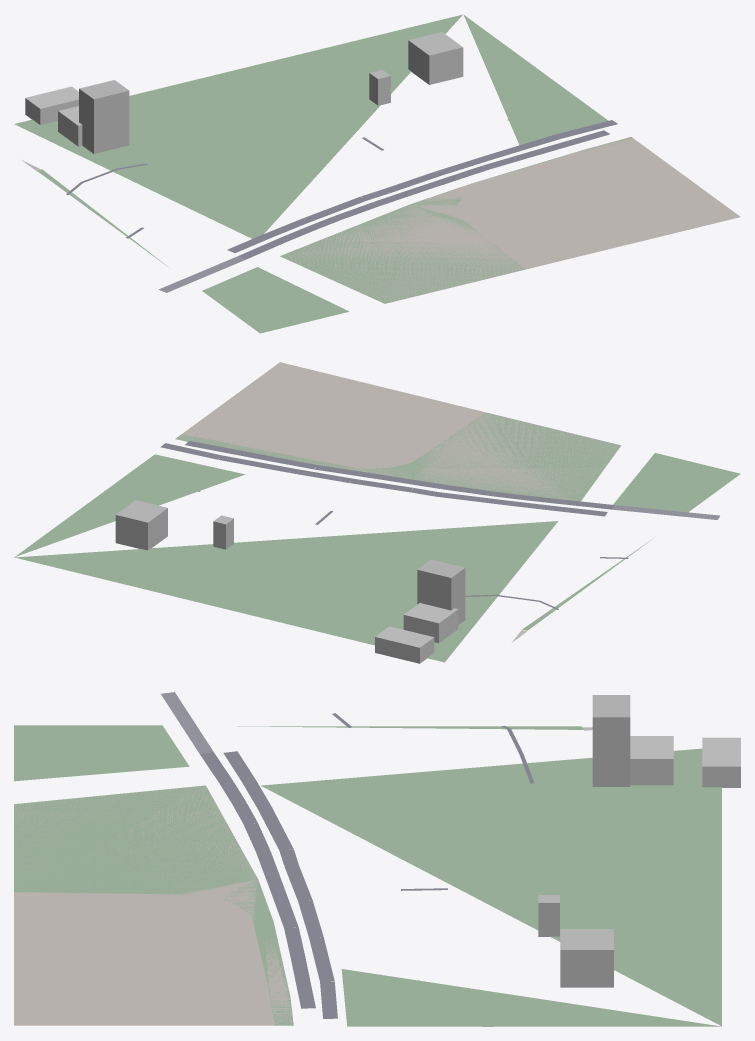
The model's file is 118_80_mid.glb.
3 renders of one model, top to bottom at view 1: azimuth 30°, elevation 25°; view 2: azimuth 150°, elevation 25°; view 3: azimuth 270°, elevation 25°, orthographic. The views are drawn at different scales.
Bounding box in the file's own units: 540 × 54.86 × 513.
